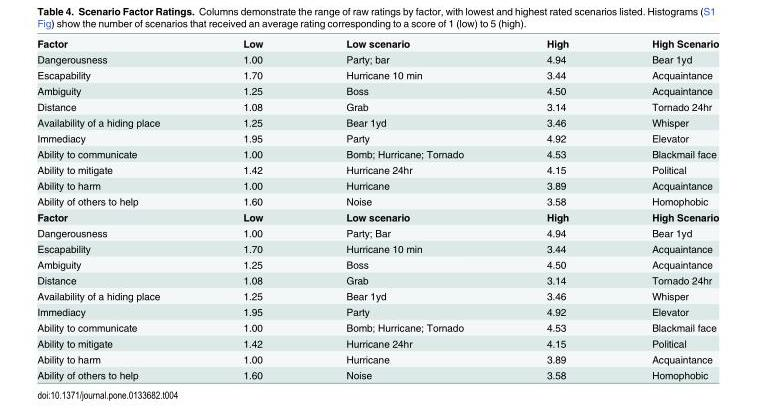table: (36, 37, 718, 380)
table column: (303, 37, 504, 380), (36, 37, 200, 380), (609, 37, 718, 380), (504, 37, 609, 380), (200, 37, 303, 380)
table row: (36, 66, 718, 82), (36, 82, 718, 98), (36, 98, 718, 114), (36, 114, 718, 130), (36, 145, 718, 161), (36, 161, 718, 177), (36, 177, 718, 193), (36, 208, 718, 224), (36, 224, 718, 240), (36, 240, 718, 256), (36, 256, 718, 272), (36, 287, 718, 303), (36, 303, 718, 319), (36, 319, 718, 335), (36, 350, 718, 366), (36, 51, 718, 66), (36, 130, 718, 145), (36, 193, 718, 208), (36, 272, 718, 287), (36, 335, 718, 350), (36, 37, 718, 51), (36, 366, 718, 380)
